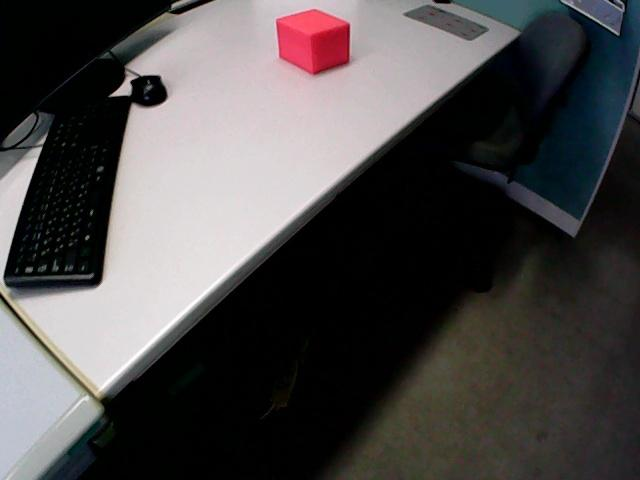red_block: (276, 9, 349, 73)
